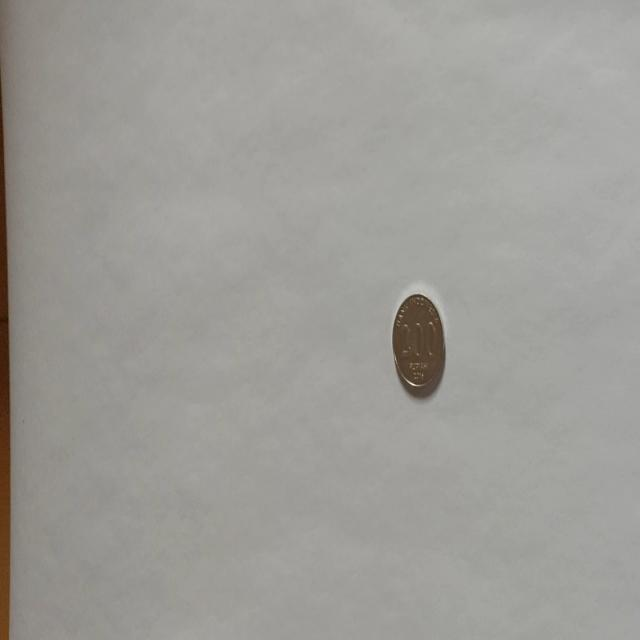dua ratus rupiah: (390, 290, 446, 396)
